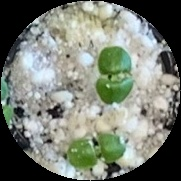Basil: (66, 129, 125, 172), (95, 49, 126, 100)
